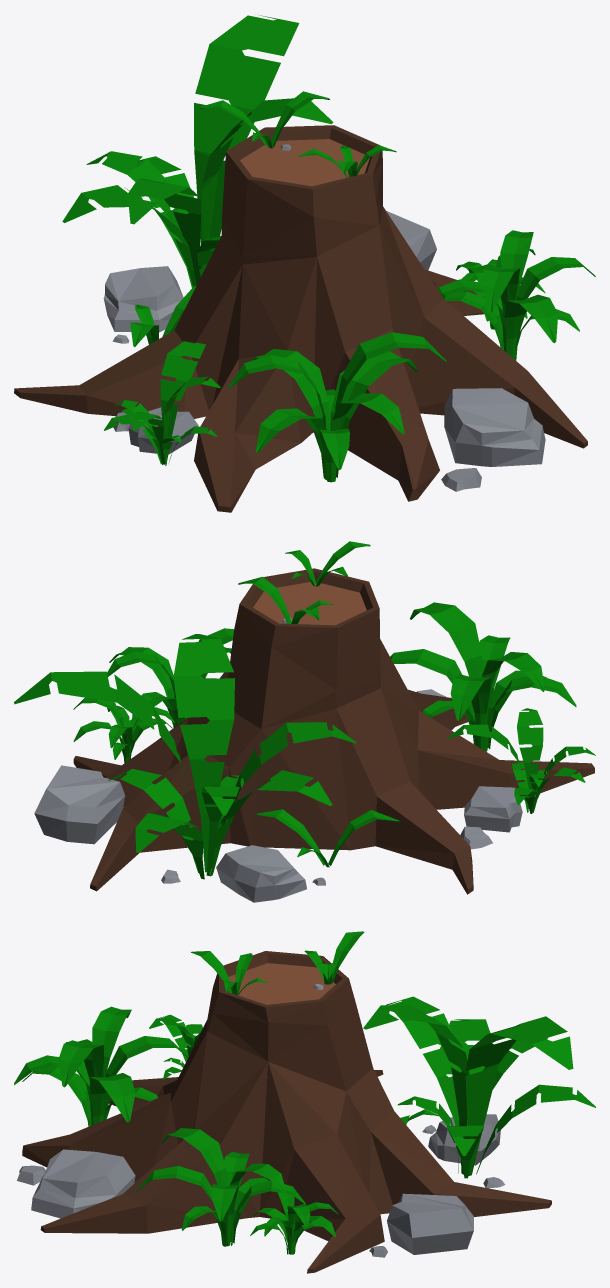
The model's file is SM_Tree_Stump.fbx.
3 renders of one model, top to bottom at view 1: azimuth 30°, elevation 25°; view 2: azimuth 150°, elevation 25°; view 3: azimuth 270°, elevation 25°, orthographic. The views are drawn at different scales.
Visible parts, largest first — view 1: SM_Tree_Stump; view 2: SM_Tree_Stump; view 3: SM_Tree_Stump.
Boxes of the visible parts, <box> form: SM_Tree_Stump: <box>14,14,595,512</box>; SM_Tree_Stump: <box>14,541,595,902</box>; SM_Tree_Stump: <box>14,931,595,1273</box>.
Bounding box in the file's own units: 141 × 68.67 × 163.
